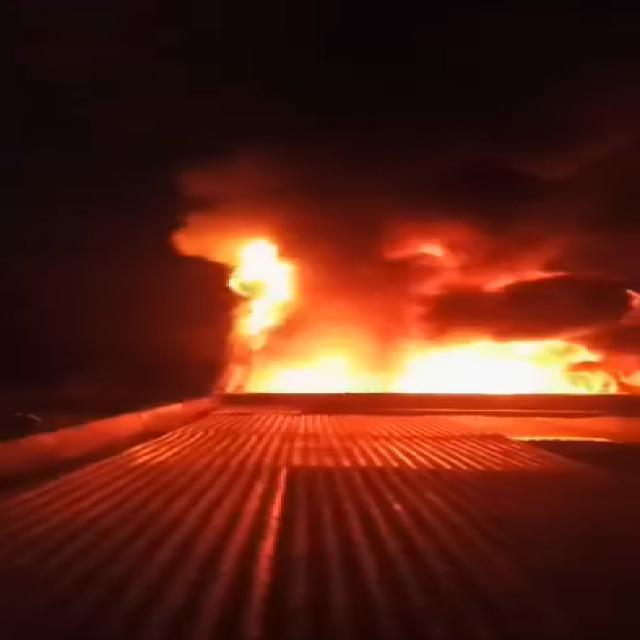Fire: (309, 322, 640, 401), (234, 250, 318, 396)
Smoke: (234, 110, 640, 332)
